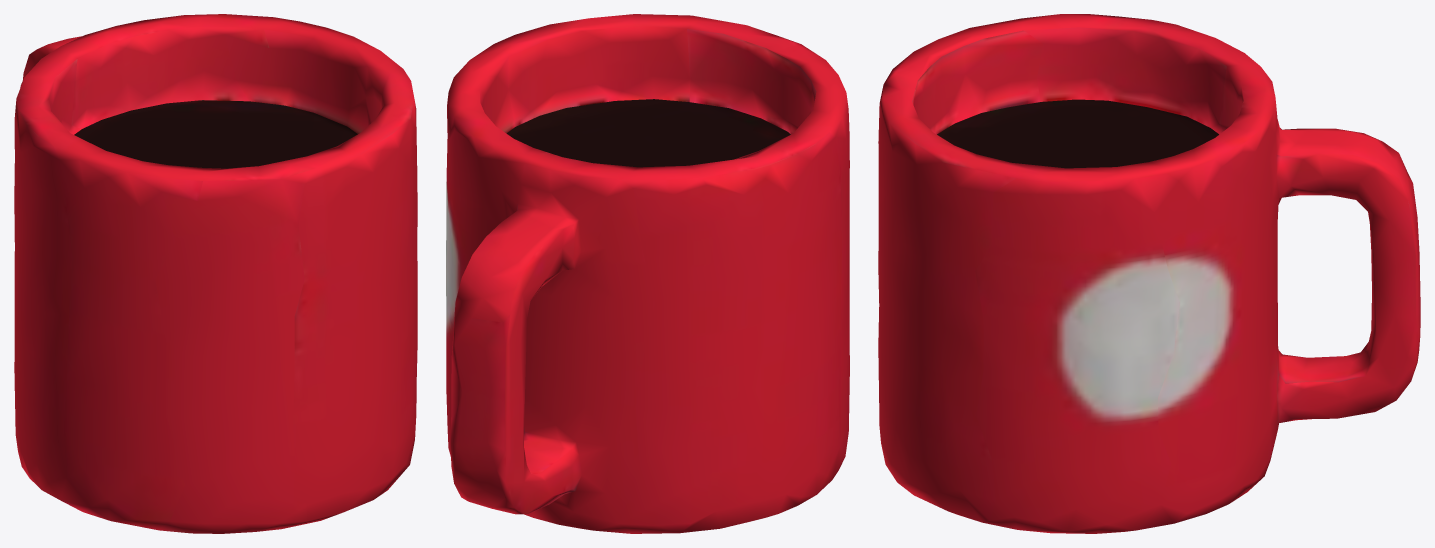
Rendered from mug.glb.
3 views of the same model, side by side, from view 1: azimuth 30°, elevation 25°; view 2: azimuth 150°, elevation 25°; view 3: azimuth 270°, elevation 25° (orthographic).
Size of the model in its own units: 0.7448 by 0.7352 by 1.
Materials: 1 (1 with a texture image).
